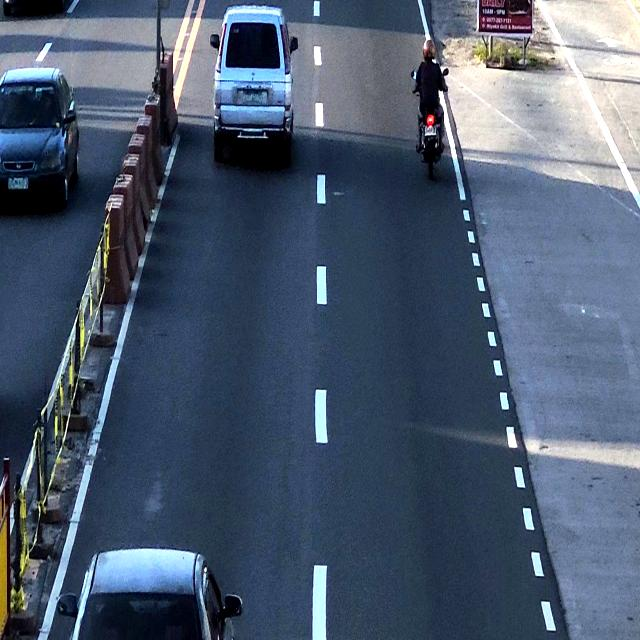Car: (74, 552, 245, 640), (210, 0, 298, 162)
License-Plate: (240, 89, 266, 105), (426, 124, 437, 136)
Motorcycle: (416, 40, 446, 174)
